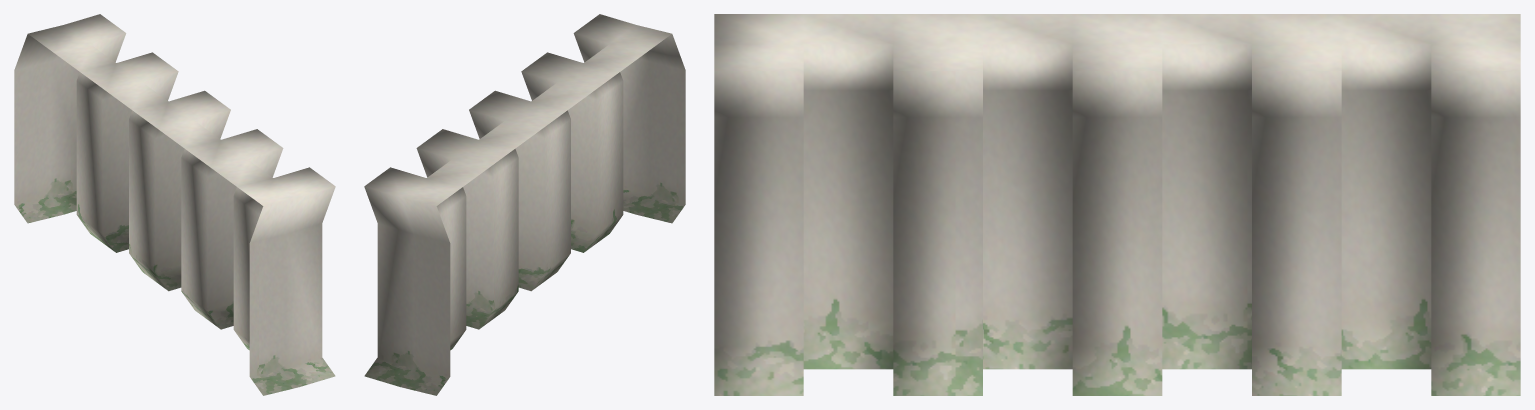
Rendered from tower_wall01.glb.
3 renders of one model, left to right at view 1: azimuth 30°, elevation 25°; view 2: azimuth 150°, elevation 25°; view 3: azimuth 270°, elevation 25°, orthographic. The views are drawn at different scales.
Visible parts, largest first — view 1: tower_wall01; view 2: tower_wall01; view 3: tower_wall01.
Part boxes in pixels (x1,y1,x2,y2): tower_wall01: [14, 14, 335, 395]; tower_wall01: [364, 14, 685, 395]; tower_wall01: [714, 14, 1520, 395].
Size of the model in its own units: 2.37 by 5.05 by 11.25.
Materials: 1 (1 with a texture image).
